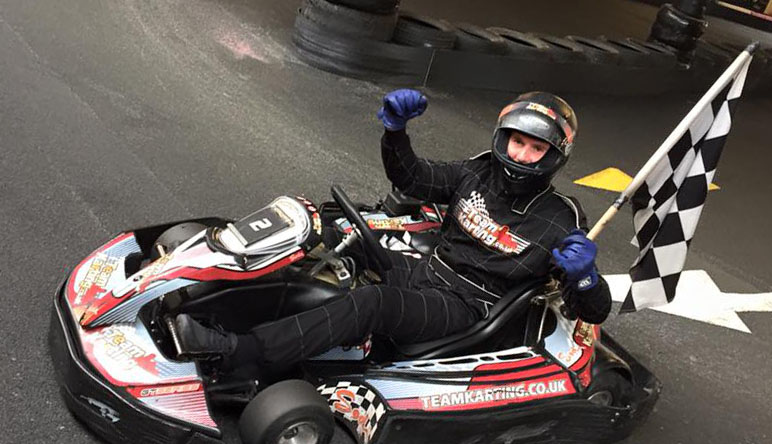Flag: (617, 41, 761, 317)
